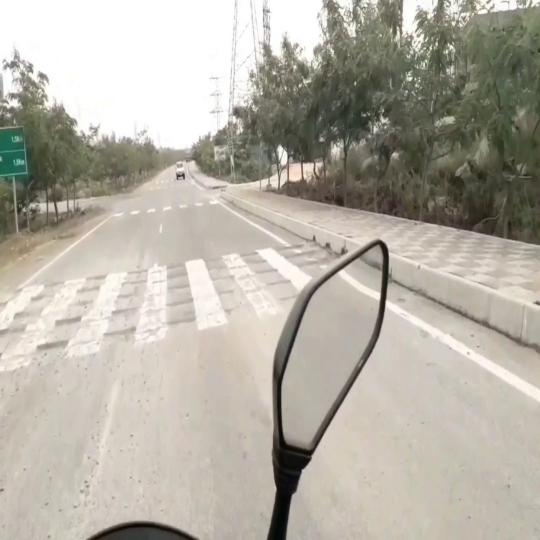Speed Bump: (0, 295, 272, 371), (0, 270, 274, 340), (14, 248, 262, 282), (4, 281, 273, 295)
